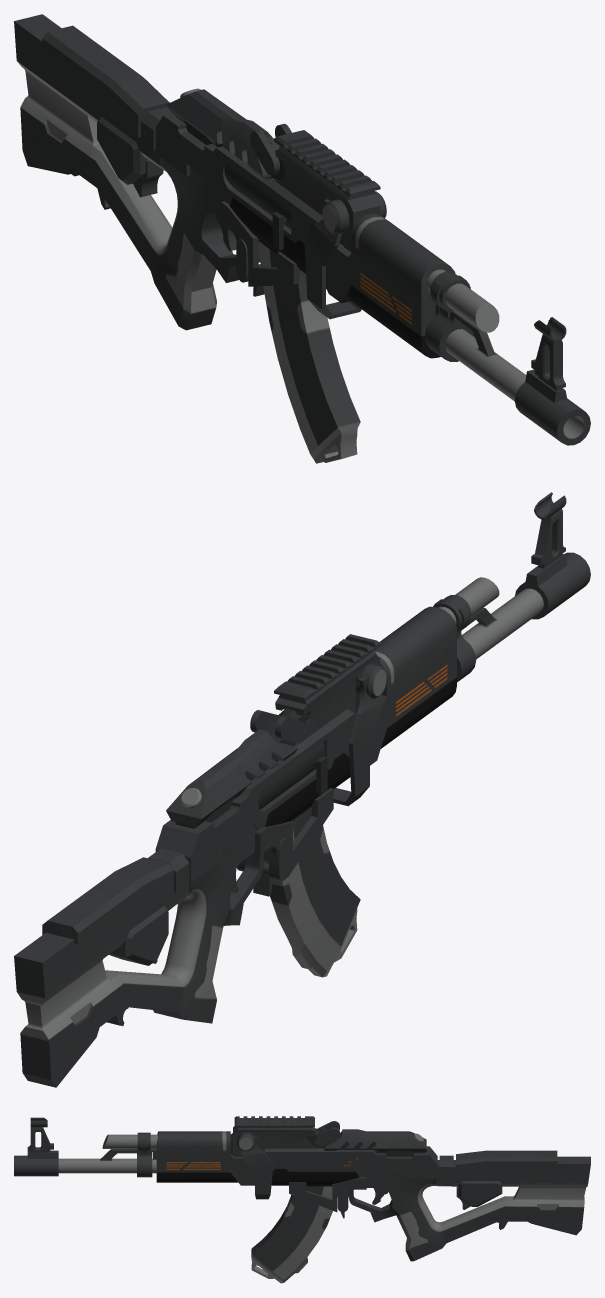
The model's file is gun.fbx.
The picture shows the model from 3 angles, top to bottom: view 1: azimuth 30°, elevation 25°; view 2: azimuth 150°, elevation 25°; view 3: azimuth 270°, elevation 25°; orthographic projection. The views are drawn at different scales.
Parts seen in each view (by area): view 1: Cube.007_Material_0; view 2: Cube.007_Material_0; view 3: Cube.007_Material_0.
Boxes of the visible parts, x1,y1,x2,y2 form: Cube.007_Material_0: [14, 14, 590, 463]; Cube.007_Material_0: [14, 492, 590, 1087]; Cube.007_Material_0: [14, 1116, 590, 1283].
Size of the model in its own units: 52.32 by 303 by 973.
1 material, 1 textured.
